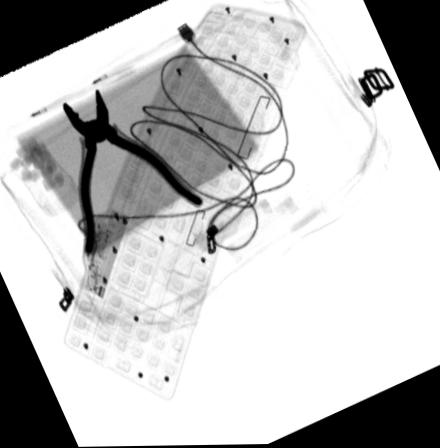Pliers: (62, 88, 203, 258)
